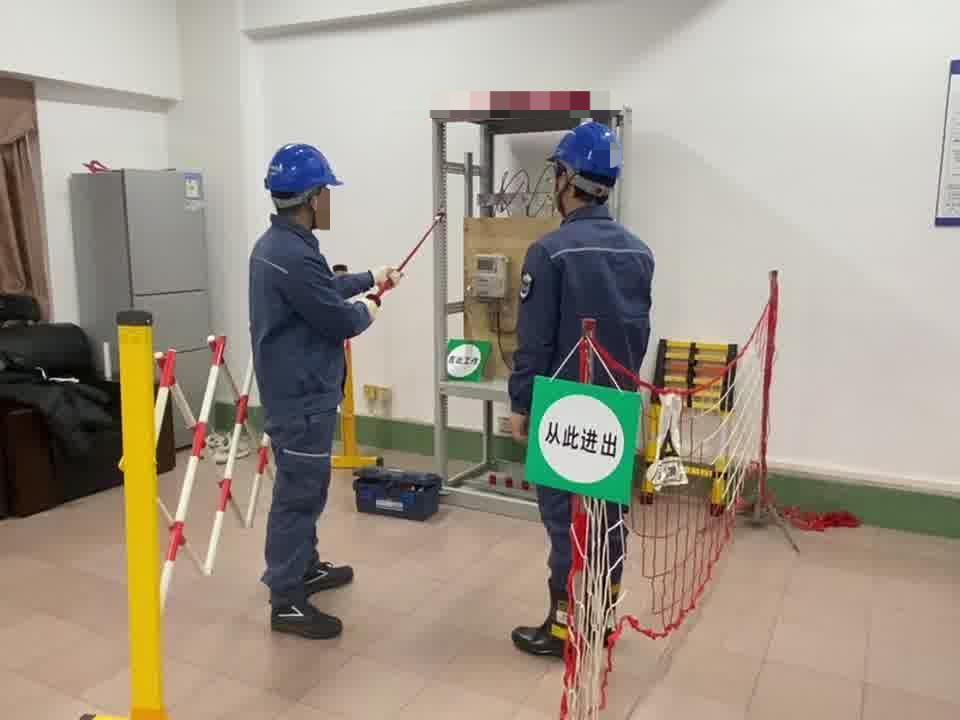halt: (267, 145, 347, 232), (551, 123, 627, 209)
inear: (551, 162, 578, 207), (303, 189, 329, 225)
